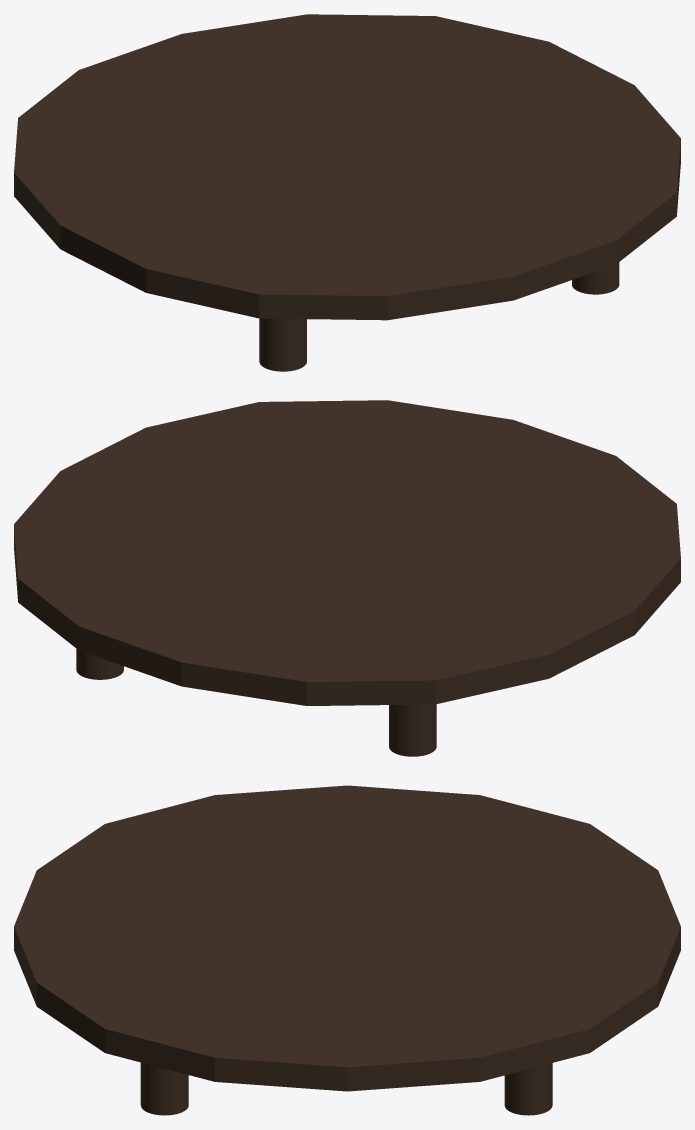
Rendered from round_table.fbx.
3 renders of one model, top to bottom at view 1: azimuth 30°, elevation 25°; view 2: azimuth 150°, elevation 25°; view 3: azimuth 270°, elevation 25°, orthographic.
Parts seen in each view (by area): view 1: Cylinder.003; view 2: Cylinder.003; view 3: Cylinder.003.
Boxes of the visible parts, bbox=[...] form: Cylinder.003: bbox=[14, 14, 680, 371]; Cylinder.003: bbox=[14, 400, 680, 756]; Cylinder.003: bbox=[14, 785, 680, 1115].
Bounding box in the file's own units: 183 × 31.08 × 183.
